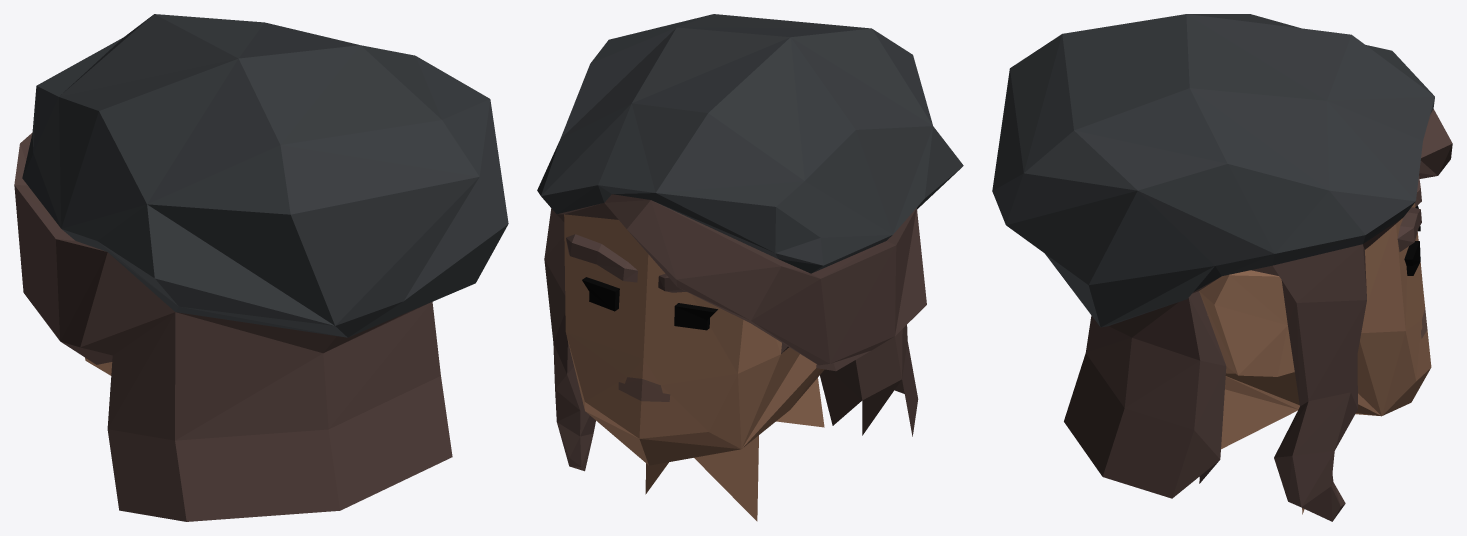
Rendered from Daughter_01_Head_0_01_C.obj.
The picture shows the model from 3 angles, left to right: view 1: azimuth 30°, elevation 25°; view 2: azimuth 150°, elevation 25°; view 3: azimuth 270°, elevation 25°; orthographic projection. The views are drawn at different scales.
Parts seen in each view (by area): view 1: Daughter_01_Head_0_01_C; view 2: Daughter_01_Head_0_01_C; view 3: Daughter_01_Head_0_01_C.
Part boxes in pixels (box(x1,y1,x2,y2)): Daughter_01_Head_0_01_C: box(14, 14, 508, 521); Daughter_01_Head_0_01_C: box(537, 14, 963, 521); Daughter_01_Head_0_01_C: box(992, 14, 1452, 521).
Bounding box in the file's own units: 0.3305 × 0.401 × 0.367.
Materials: 1 (1 with a texture image).
